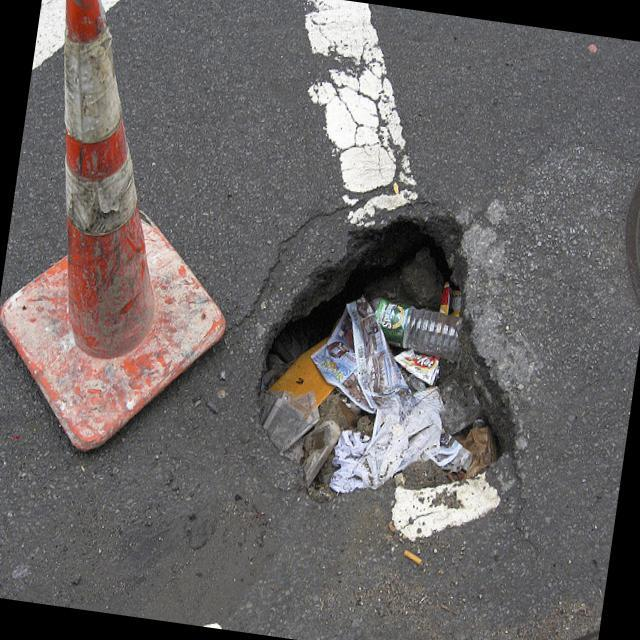Pothole: (230, 187, 584, 528)
